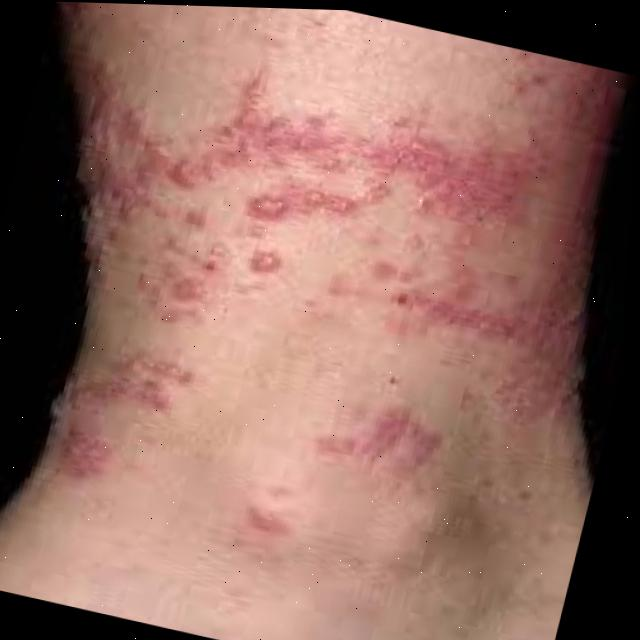Eczema: (0, 30, 603, 537)
